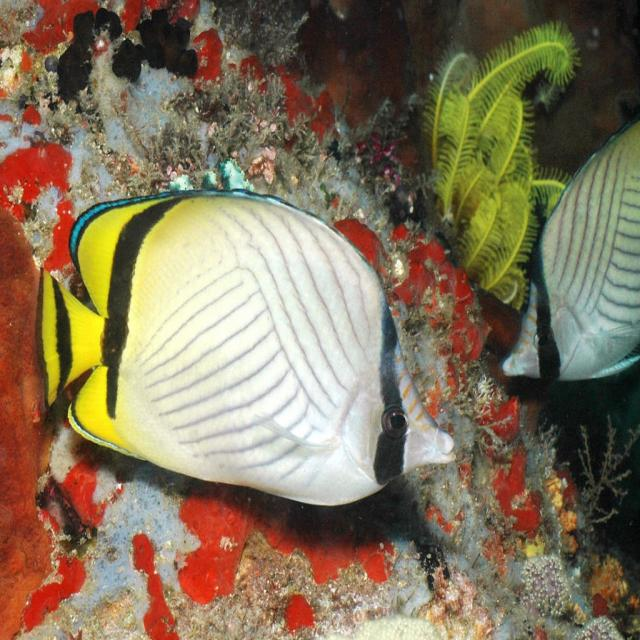ButterflyFish: (39, 189, 453, 502), (502, 126, 640, 396)
